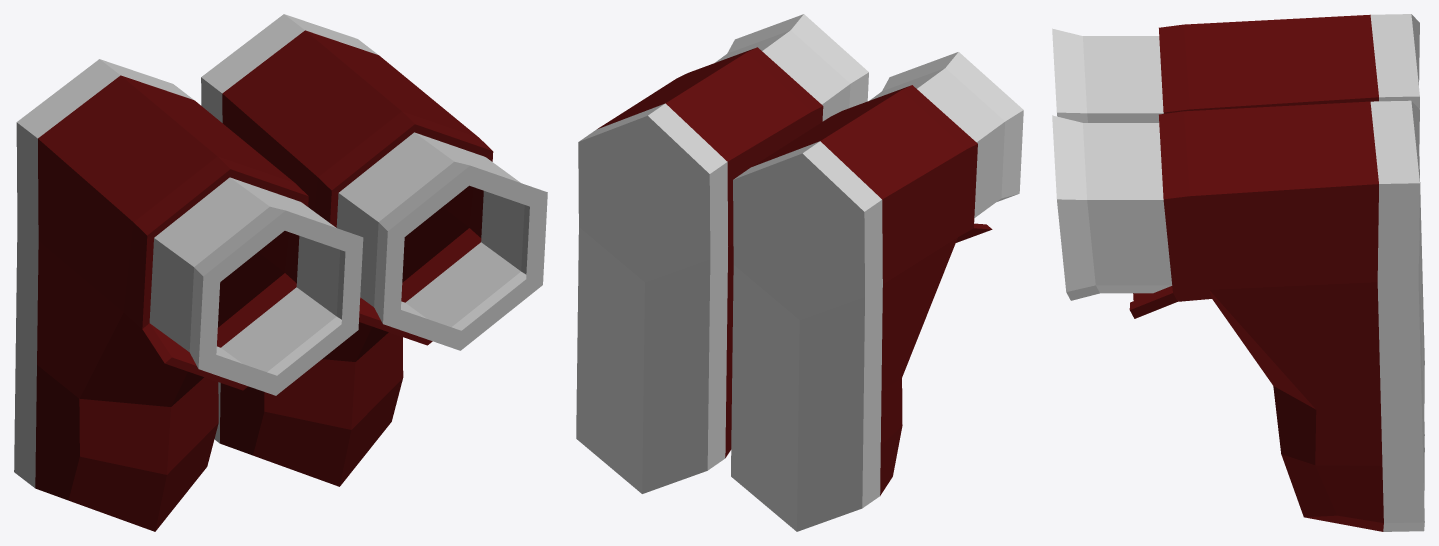
The model's file is shoes.obj.
3 views of the same model, side by side, from view 1: azimuth 30°, elevation 25°; view 2: azimuth 150°, elevation 25°; view 3: azimuth 270°, elevation 25° (orthographic). The views are drawn at different scales.
Parts seen in each view (by area): view 1: shoes; view 2: shoes; view 3: shoes.
Boxes of the visible parts, x1,y1,x2,y2 form: shoes: (14, 14, 547, 531); shoes: (576, 14, 1023, 531); shoes: (1052, 14, 1424, 531).
Bounding box in the file's own units: 2.05 × 2.53 × 1.98.
